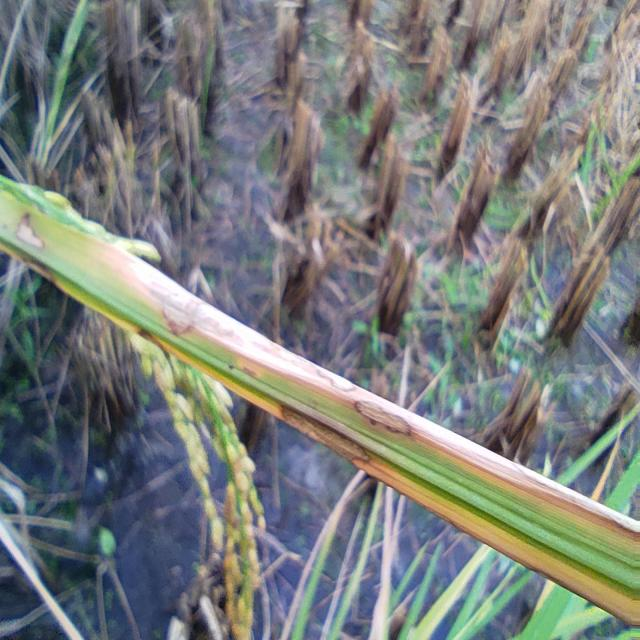Leaf_Blast: (591, 433, 621, 501)
Rice False Smut: (279, 405, 370, 465), (356, 402, 414, 431), (314, 366, 355, 391), (16, 215, 44, 249), (164, 302, 190, 335)
